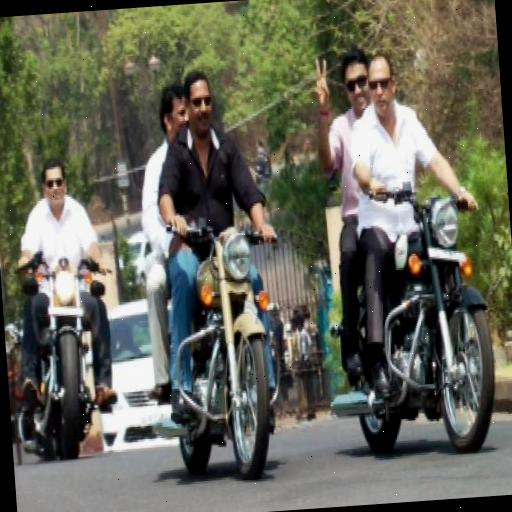no helmet: (342, 30, 497, 444), (144, 56, 294, 448), (1, 136, 126, 466)
